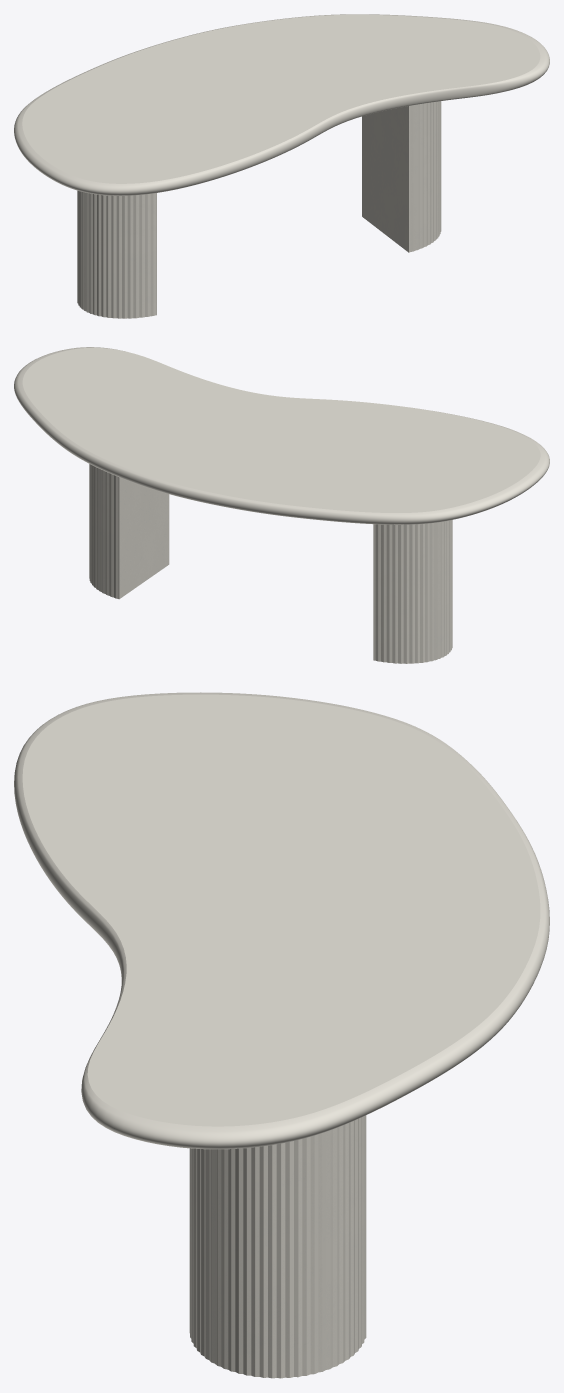
File: pale_leaf1_round_flute.glb
3 views of the same model, one above another, from view 1: azimuth 30°, elevation 25°; view 2: azimuth 150°, elevation 25°; view 3: azimuth 270°, elevation 25° (orthographic). The views are drawn at different scales.
Visible parts, largest first — view 1: round_leaf1, flute; view 2: round_leaf1, flute; view 3: round_leaf1, flute.
Boxes of the visible parts, x1,y1,x2,y2 form: round_leaf1: [14, 14, 549, 195]; flute: [77, 101, 441, 318]; round_leaf1: [14, 347, 549, 524]; flute: [89, 464, 452, 663]; round_leaf1: [14, 692, 549, 1149]; flute: [189, 1115, 366, 1378].
Size of the model in its own units: 7.5 by 2.51 by 3.8.
1 material, 1 textured.
